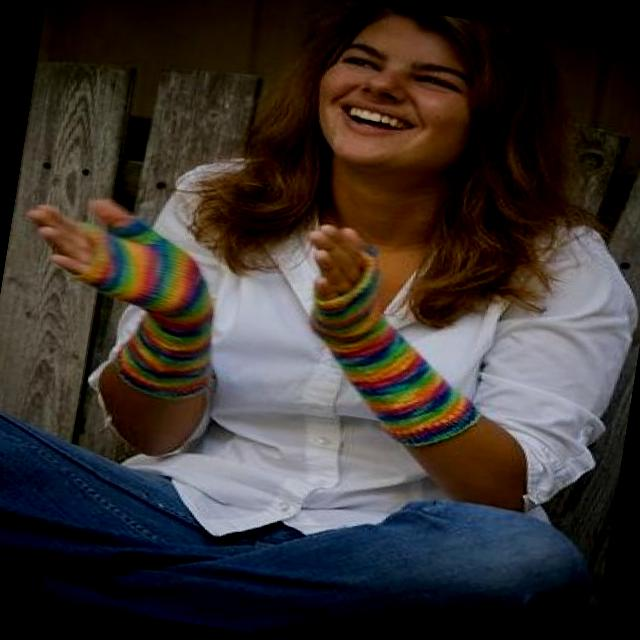no_vest: (119, 125, 640, 542)
